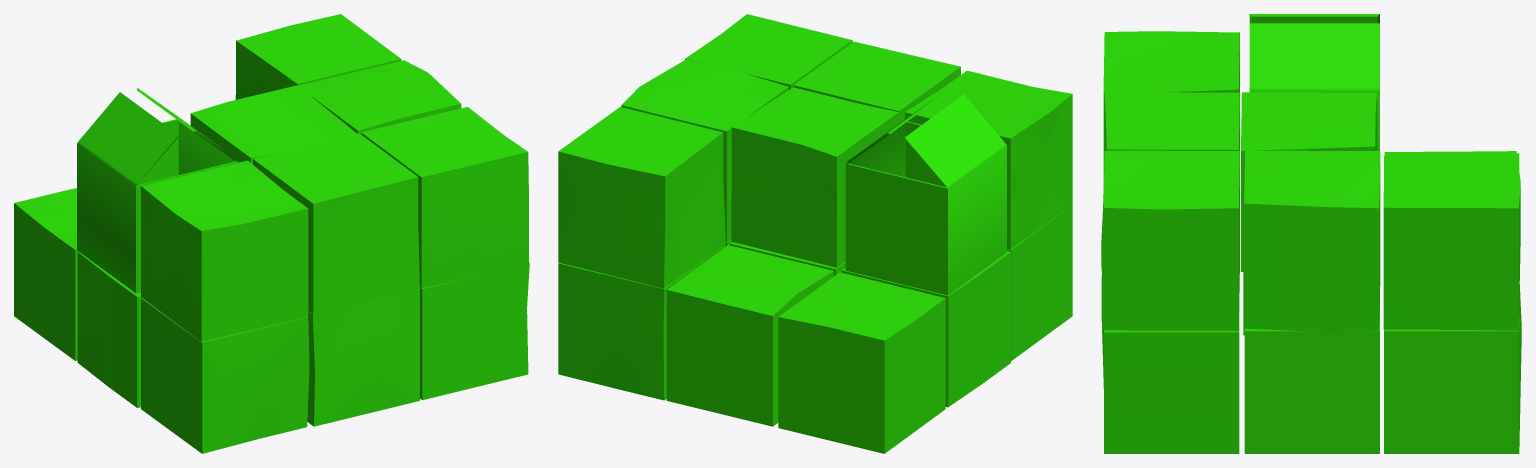
The model's file is Cardboard_Pile_02.fbx.
3 renders of one model, left to right at view 1: azimuth 30°, elevation 25°; view 2: azimuth 150°, elevation 25°; view 3: azimuth 270°, elevation 25°, orthographic. The views are drawn at different scales.
Visible parts, largest first — view 1: Cardboard_Pile_02; view 2: Cardboard_Pile_02; view 3: Cardboard_Pile_02.
Boxes of the visible parts, x1,y1,x2,y2 form: Cardboard_Pile_02: [14, 14, 529, 453]; Cardboard_Pile_02: [558, 14, 1072, 453]; Cardboard_Pile_02: [1101, 14, 1521, 453].
Bounding box in the file's own units: 120 × 90.04 × 119.
